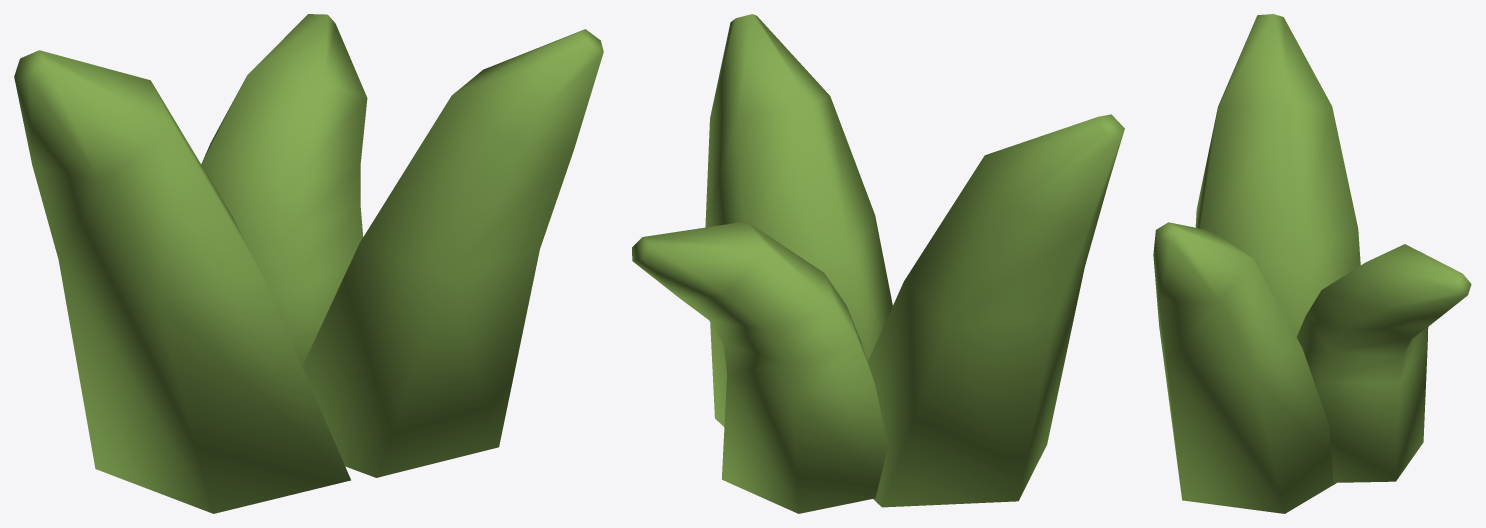
Rendered from partícula cesped.fbx.
The picture shows the model from 3 angles, left to right: view 1: azimuth 30°, elevation 25°; view 2: azimuth 150°, elevation 25°; view 3: azimuth 270°, elevation 25°; orthographic projection. The views are drawn at different scales.
Parts seen in each view (by area): view 1: Cylinder.021; view 2: Cylinder.021; view 3: Cylinder.021.
Boxes of the visible parts, x1,y1,x2,y2 form: Cylinder.021: [14, 14, 603, 513]; Cylinder.021: [632, 14, 1124, 513]; Cylinder.021: [1153, 14, 1471, 513].
Bounding box in the file's own units: 161 × 133 × 113.
